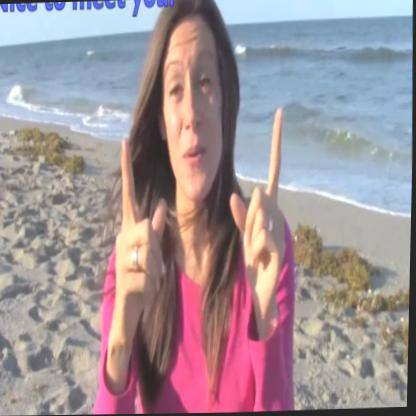NiceToMeetYou: (103, 105, 295, 324)
